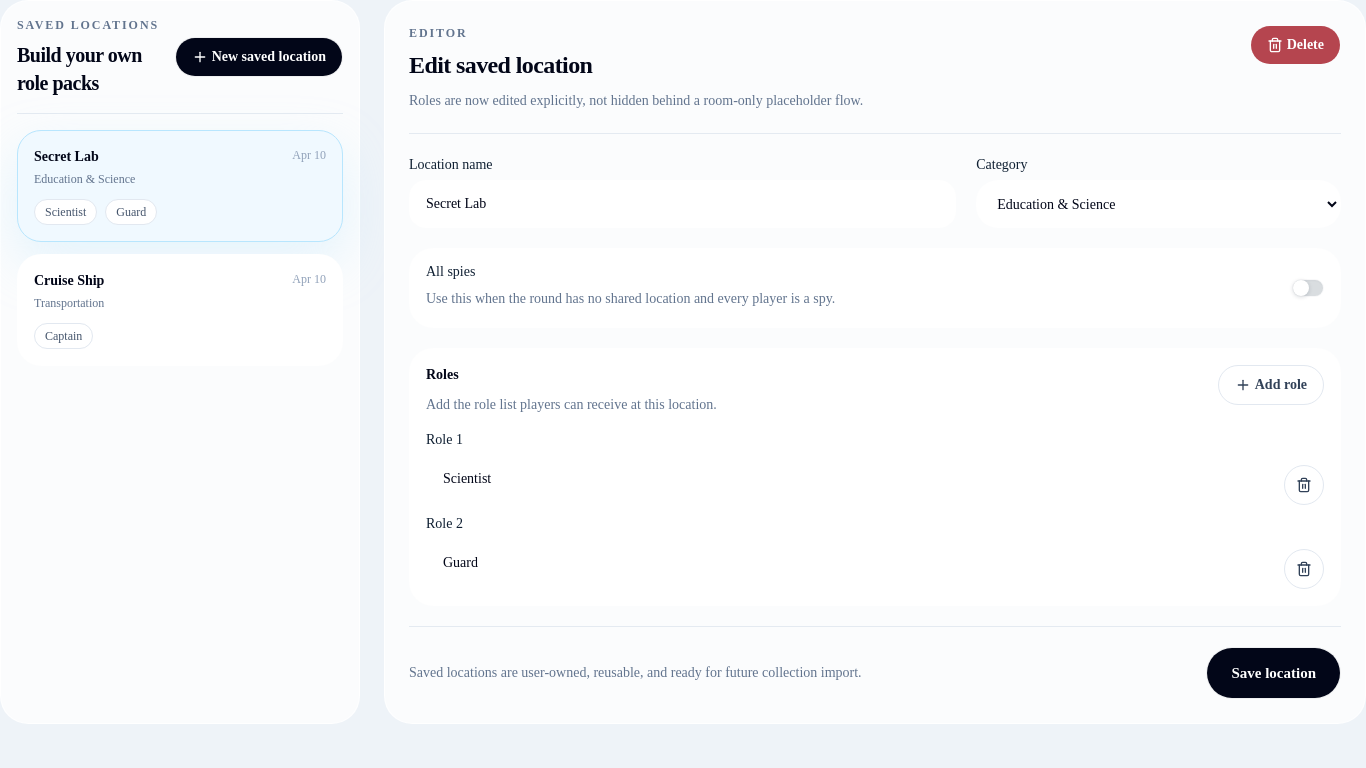
SavedLocationManager › renders existing saved locations and lets the user select one
Expected: the button "Secret Lab Education & Science Apr 10 Scientist Guard" is shown, [17,130,343,242]
Expected: the text "Scientist" is shown, [34,199,97,225]
Click the button "Cruise Ship Transportation Apr 10 Captain" at (69, 280), box [17,254,343,366]
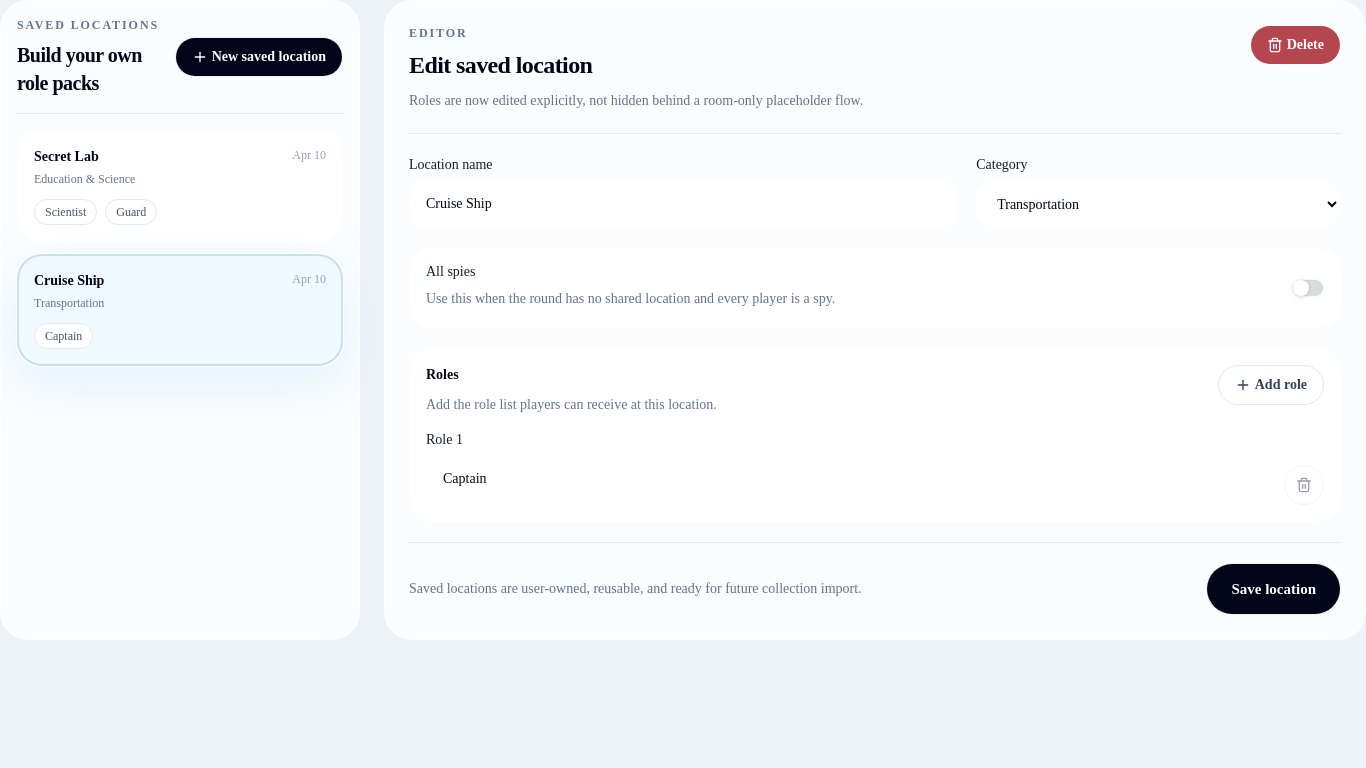
Now the field showing "Cruise Ship" is shown, box [409,180,956,228]
Now the field showing "Captain" is shown, box [426,455,1272,503]
